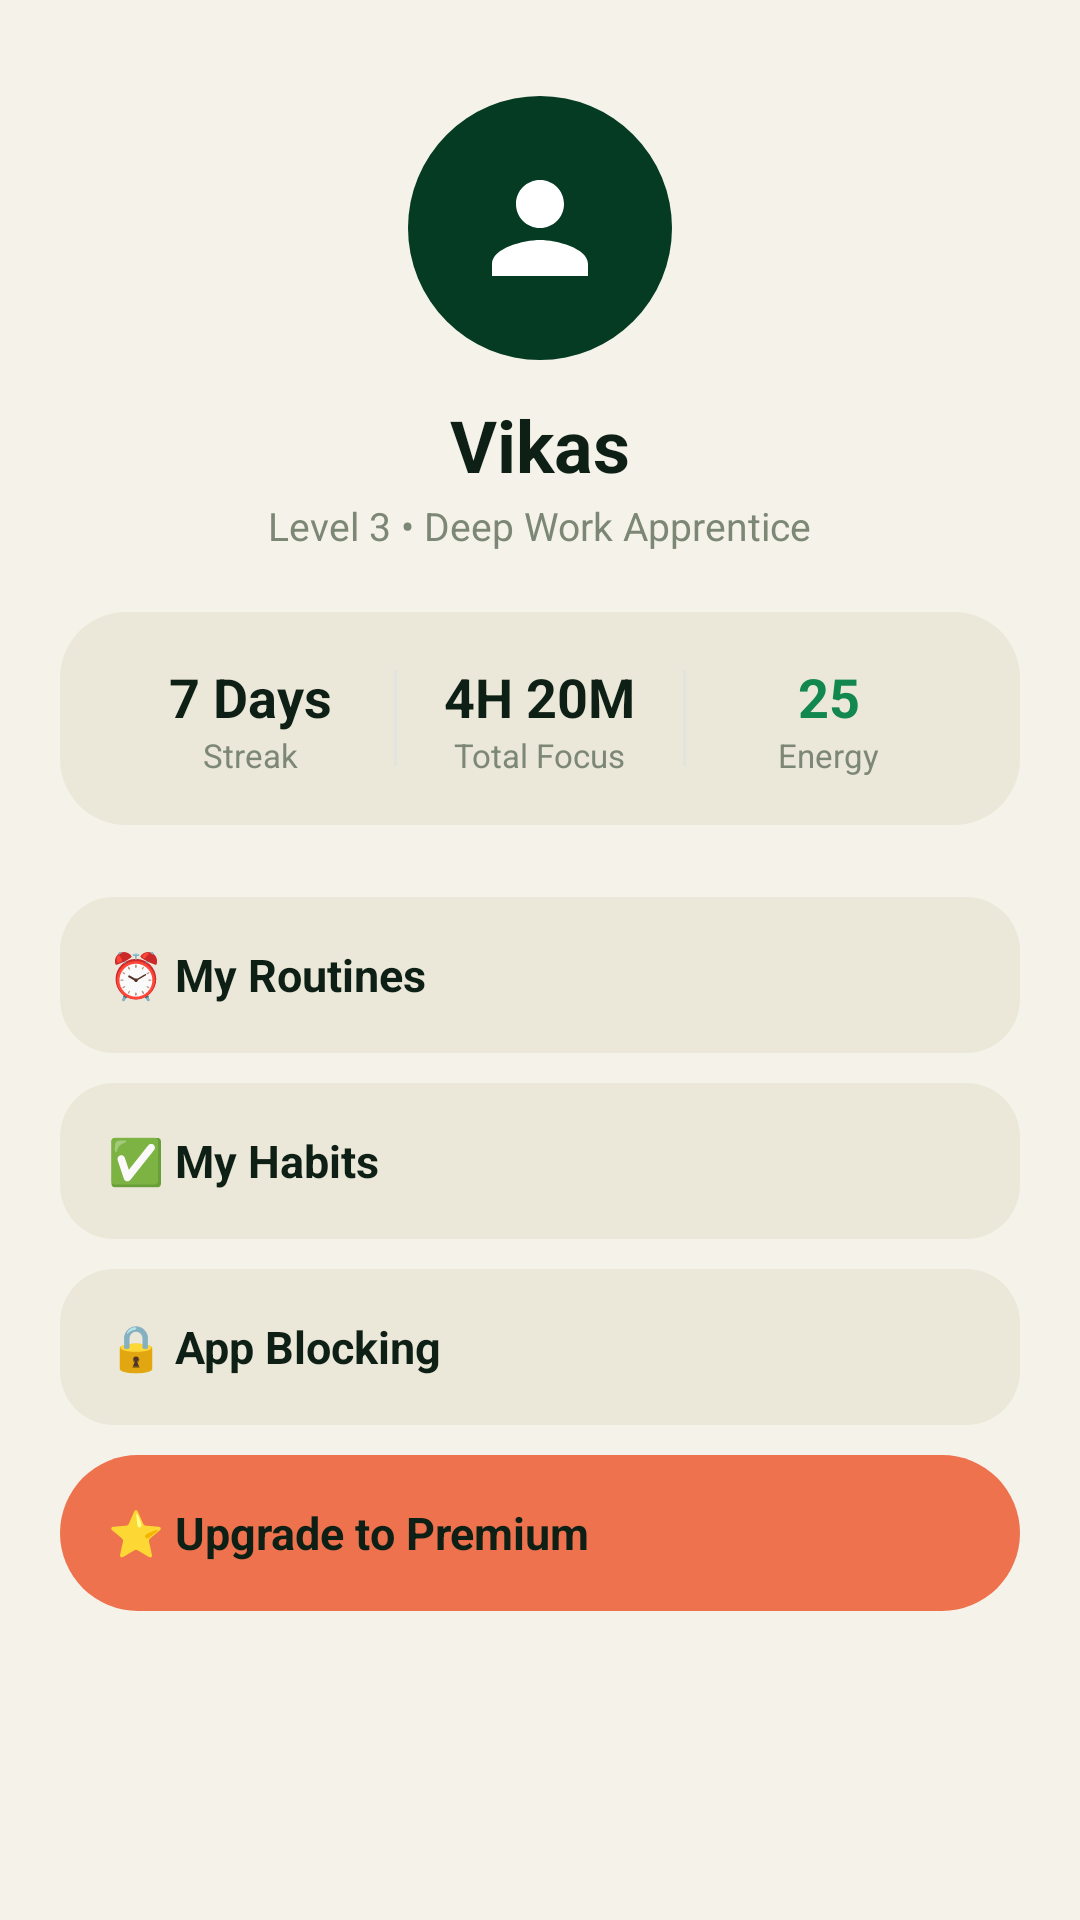

Named icons in this screenshot (1080*1920) and their centers, point (x, y):
profile: point (540, 228)
